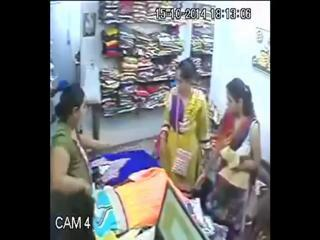Normal: (186, 78, 262, 234), (50, 84, 121, 240), (158, 58, 212, 191), (153, 182, 208, 240)
